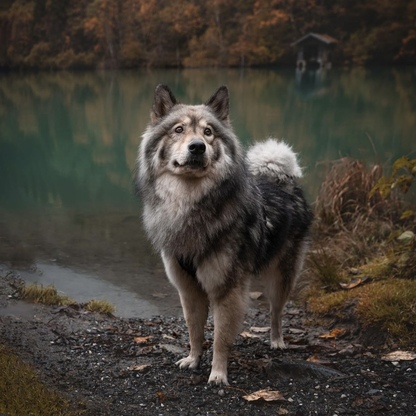husky: (129, 78, 319, 389)
